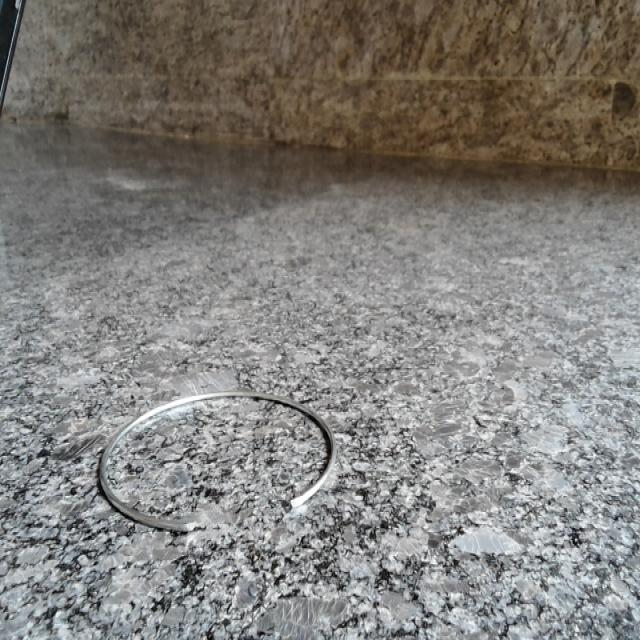metal-ring: (100, 392, 335, 532)
